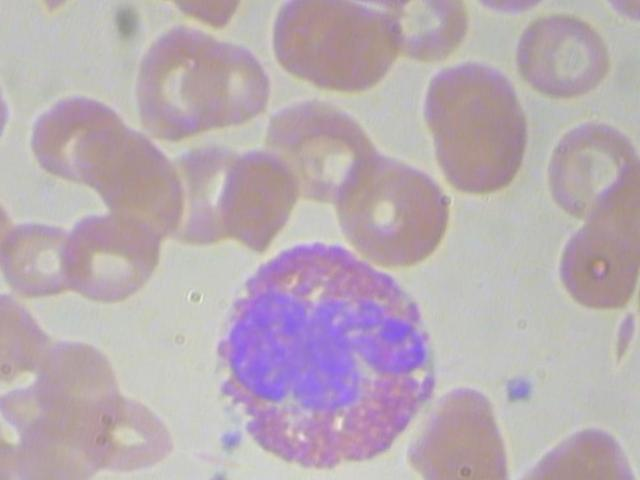Platelets: (571, 0, 640, 40)
RBC: (180, 207, 478, 480), (113, 12, 247, 160), (331, 144, 470, 280), (519, 100, 640, 236), (169, 18, 288, 149), (494, 364, 538, 411)
WBC: (463, 0, 602, 9)
